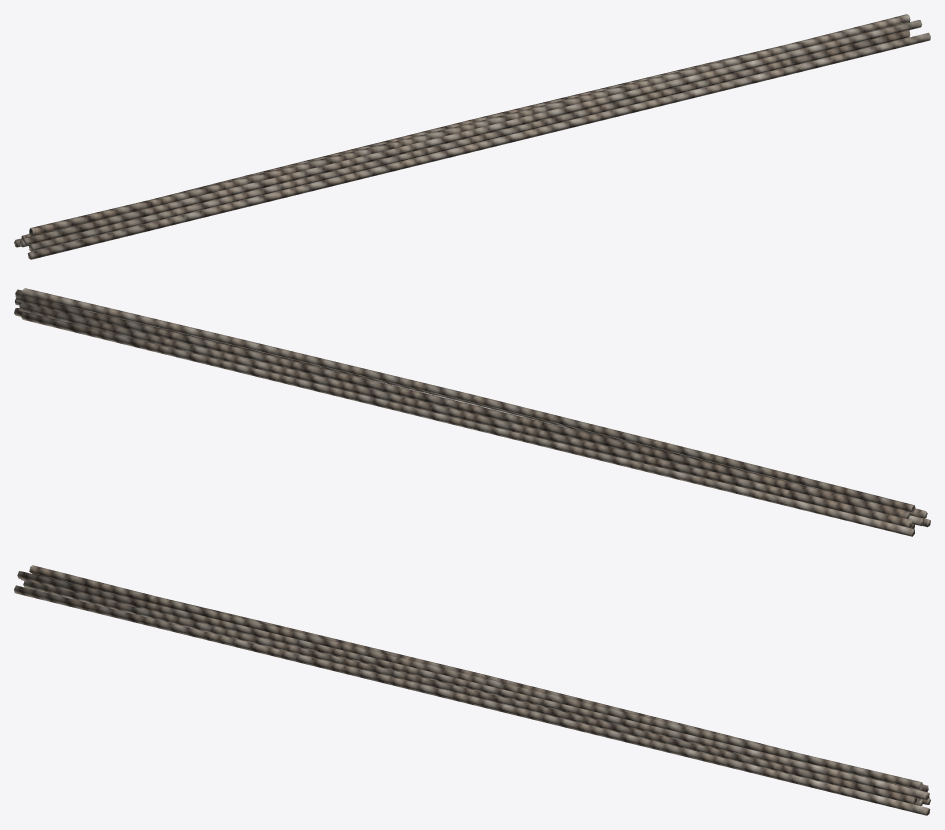
File: MetalRods.fbx
The picture shows the model from 3 angles, top to bottom: view 1: azimuth 30°, elevation 25°; view 2: azimuth 150°, elevation 25°; view 3: azimuth 330°, elevation 25°; orthographic projection.
Visible parts, largest first — view 1: Cylinder.010, Cylinder.005, Cylinder.009, Cylinder.004, Cylinder.008; view 2: Cylinder.001, Cylinder.009, Cylinder.008, Cylinder.006, Cylinder.005, Cylinder.002; view 3: Cylinder.010, Cylinder.005, Cylinder.009, Cylinder.004, Cylinder.008.
Part boxes in pixels (bbox=[...]): Cylinder.010: bbox=[27, 32, 930, 259]; Cylinder.005: bbox=[23, 20, 922, 245]; Cylinder.009: bbox=[29, 14, 910, 235]; Cylinder.004: bbox=[29, 30, 910, 251]; Cylinder.008: bbox=[29, 21, 909, 236]; Cylinder.001: bbox=[19, 303, 912, 527]; Cylinder.009: bbox=[22, 288, 915, 512]; Cylinder.008: bbox=[16, 294, 909, 518]; Cylinder.006: bbox=[21, 312, 914, 536]; Cylinder.005: bbox=[15, 289, 927, 518]; Cylinder.002: bbox=[100, 322, 923, 525]; Cylinder.010: bbox=[14, 585, 930, 815]; Cylinder.005: bbox=[17, 571, 929, 800]; Cylinder.009: bbox=[29, 565, 922, 789]; Cylinder.004: bbox=[23, 580, 916, 804]; Cylinder.008: bbox=[35, 574, 928, 791].
Size of the model in its own units: 1438 by 36.36 by 51.6.
Materials: 1 (1 with a texture image).
